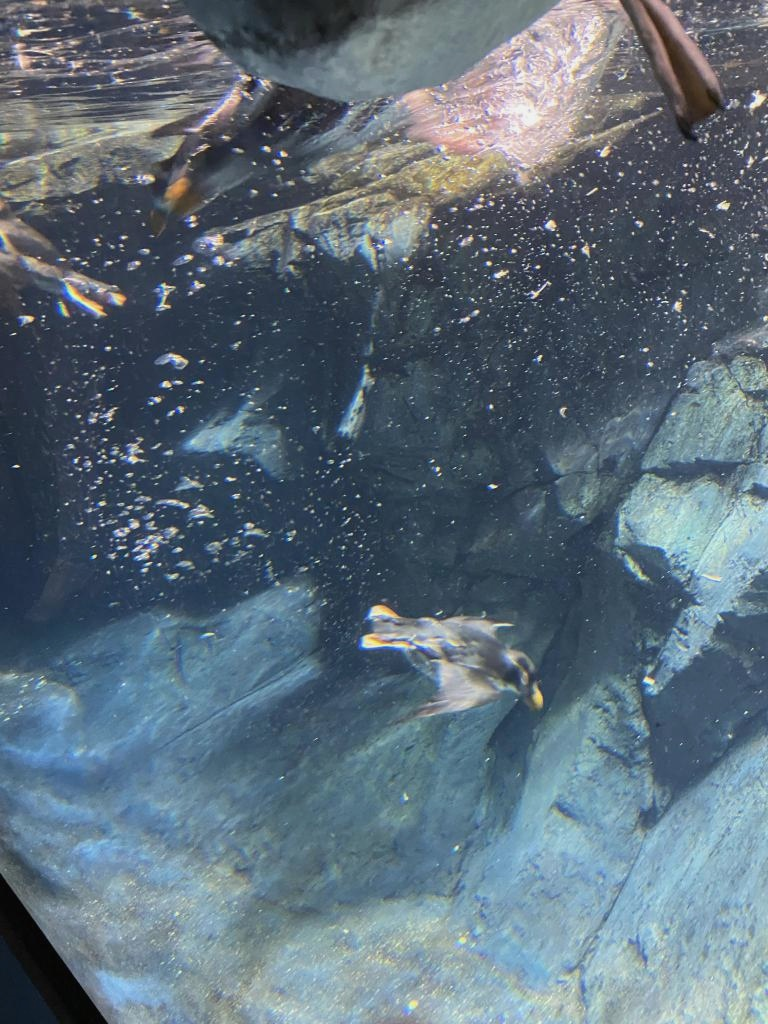puffin: (153, 0, 729, 229), (362, 604, 544, 720), (0, 196, 123, 322)
